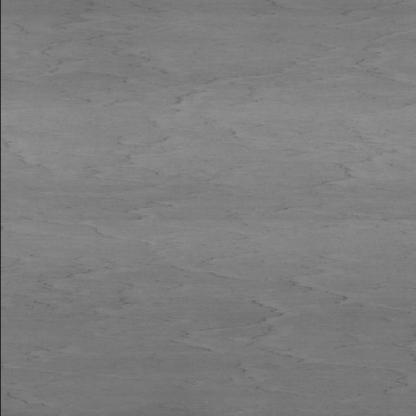silk_spot: (57, 250, 374, 390)
